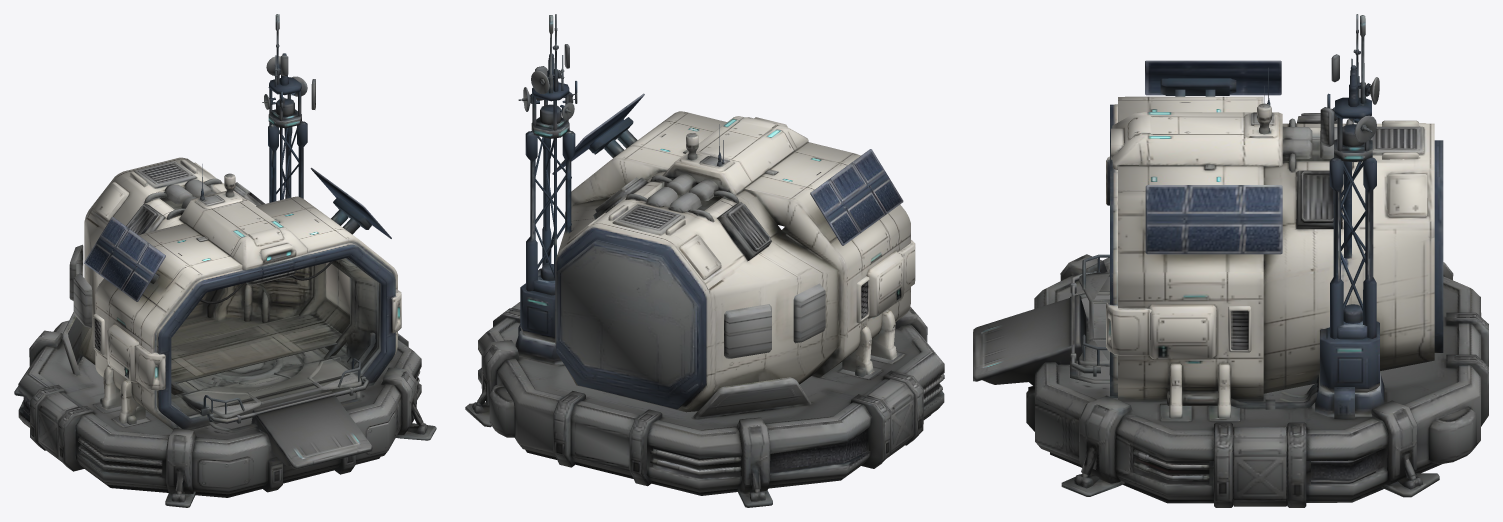
Rendered from selected.glb.
3 views of the same model, side by side, from view 1: azimuth 30°, elevation 25°; view 2: azimuth 150°, elevation 25°; view 3: azimuth 270°, elevation 25° (orthographic). The views are drawn at different scales.
Visible parts, largest first — view 1: tripo_node_2ed32a8b-1540-46d6-94b1-e462435decd8; view 2: tripo_node_2ed32a8b-1540-46d6-94b1-e462435decd8; view 3: tripo_node_2ed32a8b-1540-46d6-94b1-e462435decd8.
Part boxes in pixels (<box>): tripo_node_2ed32a8b-1540-46d6-94b1-e462435decd8: <box>14,14,436,507</box>; tripo_node_2ed32a8b-1540-46d6-94b1-e462435decd8: <box>465,14,944,507</box>; tripo_node_2ed32a8b-1540-46d6-94b1-e462435decd8: <box>973,14,1488,507</box>.
Size of the model in its own units: 0.9907 by 0.9702 by 0.9995.
Materials: 1 (1 with a texture image).
